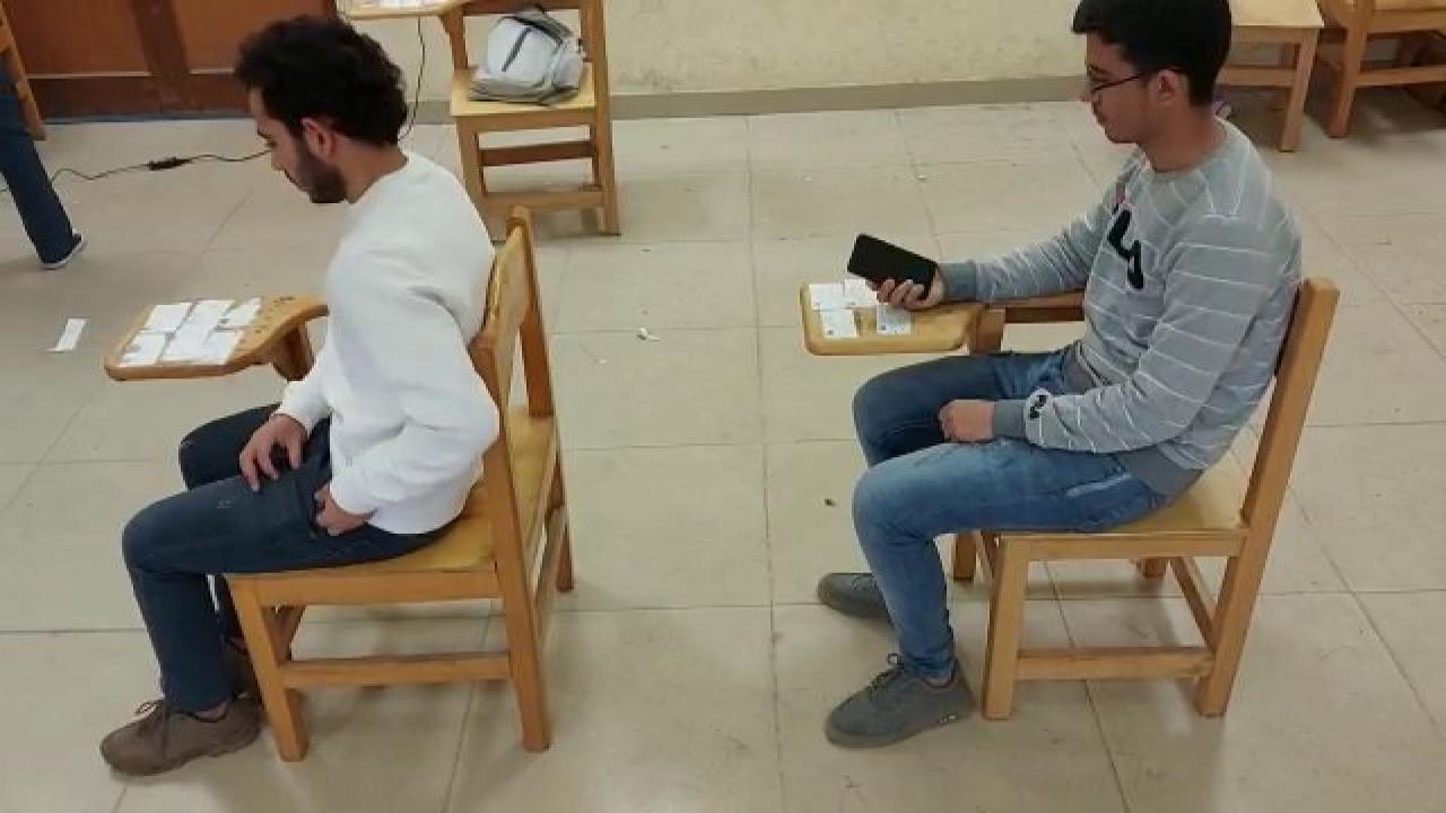phone: (845, 233, 940, 301)
